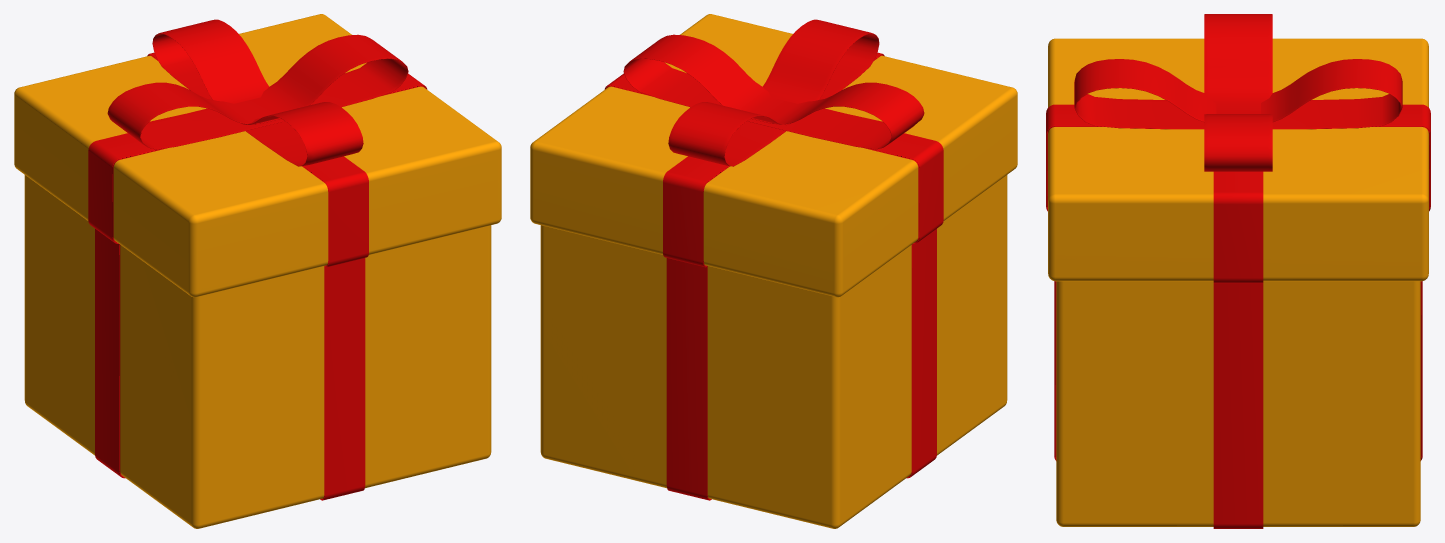
The model's file is BOXsanta01.FBX.
3 renders of one model, left to right at view 1: azimuth 30°, elevation 25°; view 2: azimuth 150°, elevation 25°; view 3: azimuth 270°, elevation 25°, orthographic. The views are drawn at different scales.
Visible parts, largest first — view 1: ChamferBox02, ChamferBox03; view 2: ChamferBox02, ChamferBox03; view 3: ChamferBox02, ChamferBox03.
Part boxes in pixels (x1,y1,x2,y2): ChamferBox02: (14, 14, 501, 528); ChamferBox03: (88, 19, 427, 500); ChamferBox02: (530, 14, 1017, 528); ChamferBox03: (604, 19, 943, 500); ChamferBox02: (1048, 38, 1428, 526); ChamferBox03: (1046, 14, 1430, 528).
Size of the model in its own units: 4.52 by 4.95 by 4.52.
